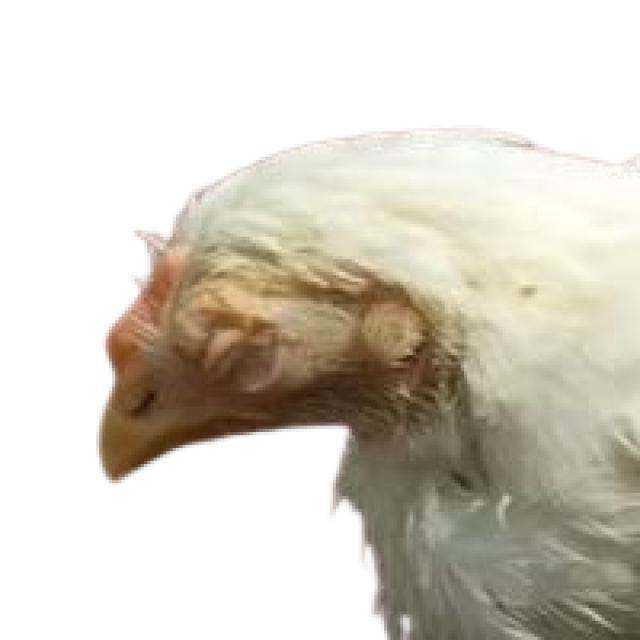Coryza: (168, 290, 288, 396)
